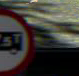Heavy Vehicles: (0, 2, 36, 75)
